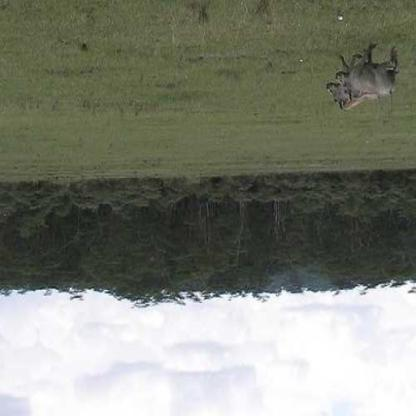boar: (308, 60, 394, 123)
